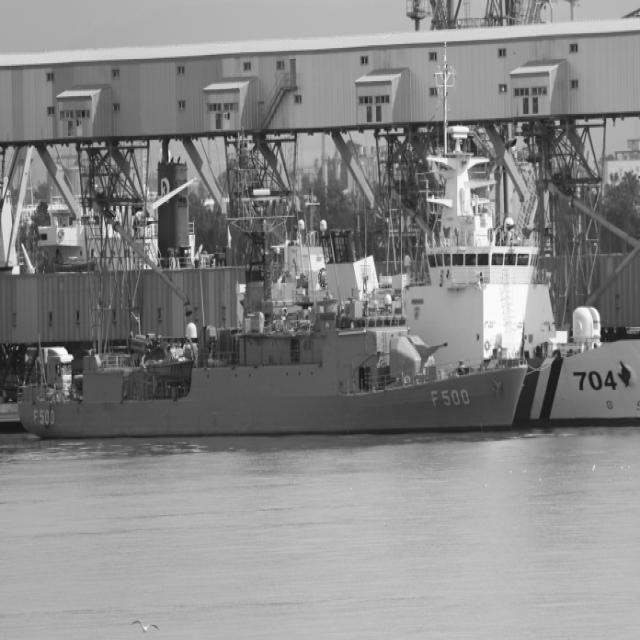Fragata: (17, 218, 529, 447)
